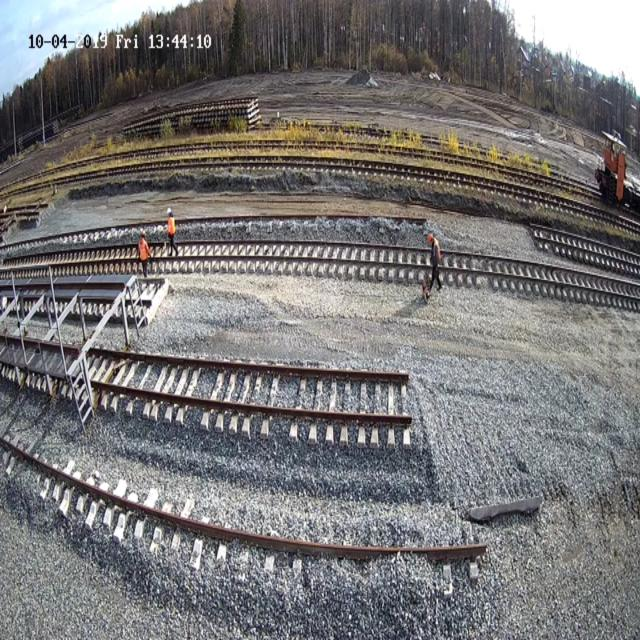Helmet: (166, 207, 172, 214)
Person: (422, 224, 452, 299), (138, 230, 152, 278), (166, 207, 179, 256)
